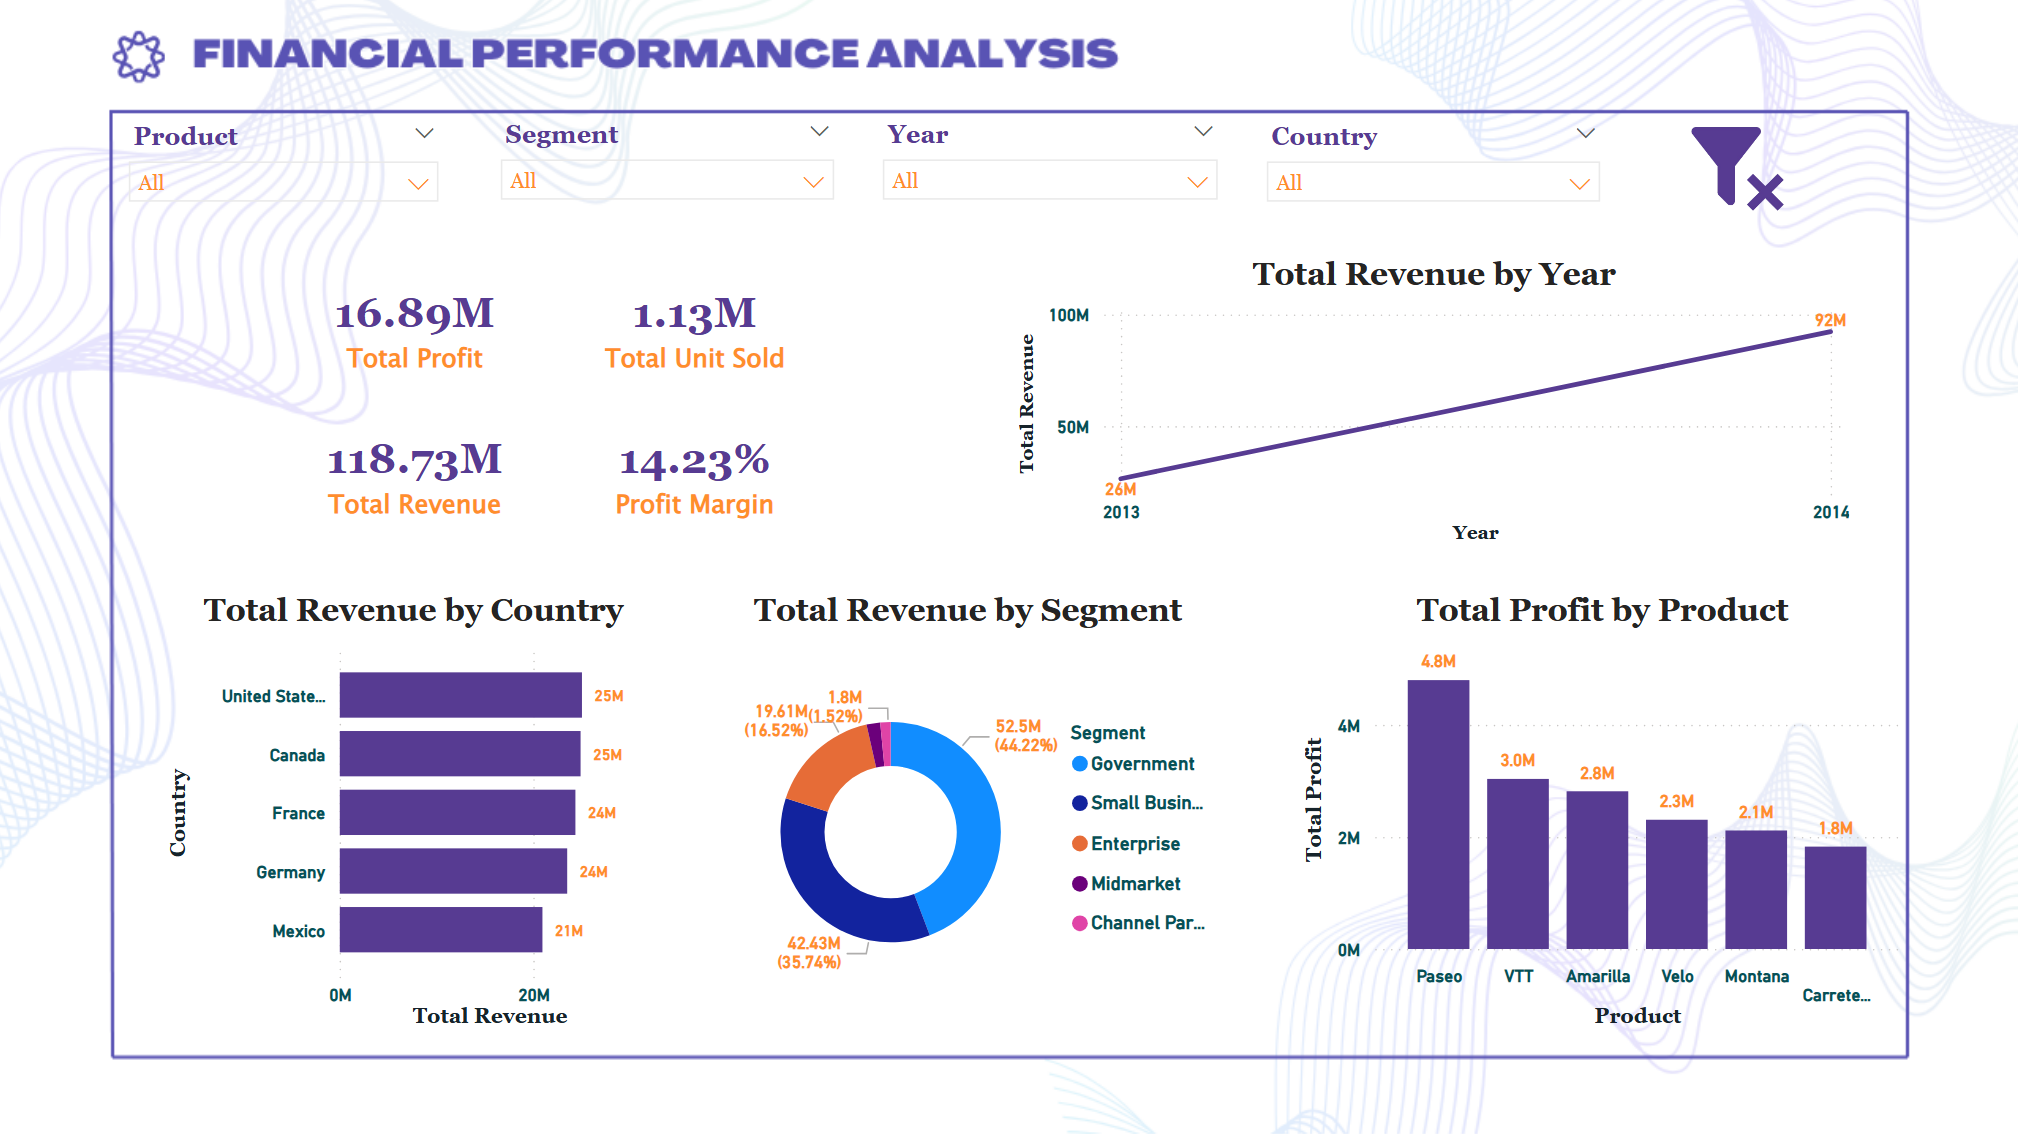

The page's visual inventory and layout, read from the dashboard file:
{"tool":"powerbi","page":{"name":"Page 1","canvas":[1280,720],"ordinal":0},"visuals":[{"type":"cardVisual","fields":{"Data":["Fact_Sale.Total Profit"]},"box":[174.5,165.4,177.2,90.5],"z":0},{"type":"cardVisual","fields":{"Data":["Fact_Sale.Profit Margin"]},"box":[351.7,255.9,177.2,95.6],"z":1000},{"type":"cardVisual","fields":{"Data":["Fact_Sale.Total Revenue"]},"box":[174.5,255.9,177.2,95.6],"z":2000},{"type":"cardVisual","fields":{"Data":["Fact_Sale.Total Unit Sold"]},"box":[351.7,165.4,177.2,90.5],"z":3000},{"type":"clusteredBarChart","fields":{"Category":["Dim_Country.Country"],"Y":["Fact_Sale.Total Revenue"]},"box":[102.4,374.2,319.6,280.9],"z":4000},{"type":"clusteredColumnChart","fields":{"Category":["Dim_Product. Product "],"Y":["Fact_Sale.Total Profit"]},"box":[821.2,374.2,386.7,280.9],"z":5000},{"type":"lineChart","fields":{"Category":["Fact_Sale.Date.Variation.Date Hierarchy.Year","Fact_Sale.Date.Variation.Date Hierarchy.Quarter","Fact_Sale.Date.Variation.Date Hierarchy.Month","Fact_Sale.Date.Variation.Date Hierarchy.Day"],"Y":["Fact_Sale.Total Revenue"]},"box":[640.4,162.7,535.7,186.5],"z":6000},{"type":"donutChart","fields":{"Category":["Dim_Segment.Segment"],"Y":["Fact_Sale.Total Revenue"]},"box":[445.9,374.2,335.5,280.9],"z":7000},{"type":"slicer","fields":{"Values":["Dim_Country.Country"]},"box":[792.8,71.7,230.9,66],"z":8000},{"type":"slicer","fields":{"Values":["Dim_Product. Product "]},"box":[71.7,71.7,216.1,66],"z":9000},{"type":"slicer","fields":{"Values":["Dim_Segment.Segment"]},"box":[307.3,71.4,230.8,66.3],"z":10000},{"type":"slicer","fields":{"Values":["Fact_Sale.Date.Variation.Date Hierarchy.Year"]},"box":[549.5,71.4,232,66.3],"z":11000},{"type":"image","box":[1053.3,71.7,91,66],"z":11001}]}

Visuals, with their boxes in screenshot pixels (x1, y1, x2, y2), scaled from the page's 1280x720 canvas onto the 2018x1136 screenshot:
cardVisual - Fact_Sale.Total Profit: [x1=275, y1=261, x2=554, y2=404]
cardVisual - Fact_Sale.Profit Margin: [x1=554, y1=404, x2=834, y2=555]
cardVisual - Fact_Sale.Total Revenue: [x1=275, y1=404, x2=554, y2=555]
cardVisual - Fact_Sale.Total Unit Sold: [x1=554, y1=261, x2=834, y2=404]
clusteredBarChart - Dim_Country.Country x Fact_Sale.Total Revenue: [x1=161, y1=590, x2=665, y2=1034]
clusteredColumnChart - Dim_Product. Product  x Fact_Sale.Total Profit: [x1=1295, y1=590, x2=1904, y2=1034]
lineChart - Fact_Sale.Date.Variation.Date Hierarchy.Year x Fact_Sale.Date.Variation.Date Hierarchy.Quarter: [x1=1010, y1=257, x2=1854, y2=551]
donutChart - Dim_Segment.Segment x Fact_Sale.Total Revenue: [x1=703, y1=590, x2=1232, y2=1034]
slicer - Dim_Country.Country: [x1=1250, y1=113, x2=1614, y2=217]
slicer - Dim_Product. Product : [x1=113, y1=113, x2=454, y2=217]
slicer - Dim_Segment.Segment: [x1=484, y1=113, x2=848, y2=217]
slicer - Fact_Sale.Date.Variation.Date Hierarchy.Year: [x1=866, y1=113, x2=1232, y2=217]
image: [x1=1661, y1=113, x2=1804, y2=217]
